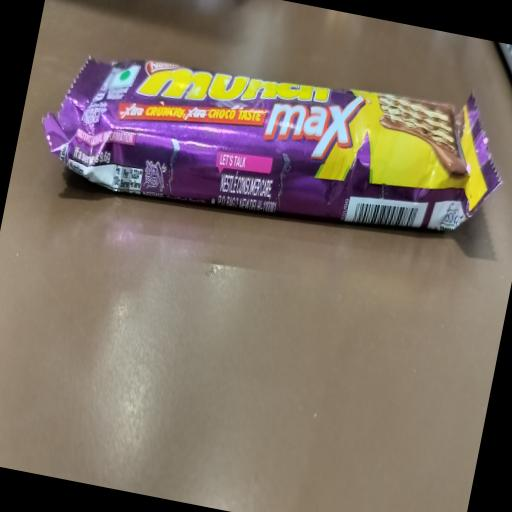chocolate: (30, 10, 512, 261)
munch: (115, 41, 373, 170)
